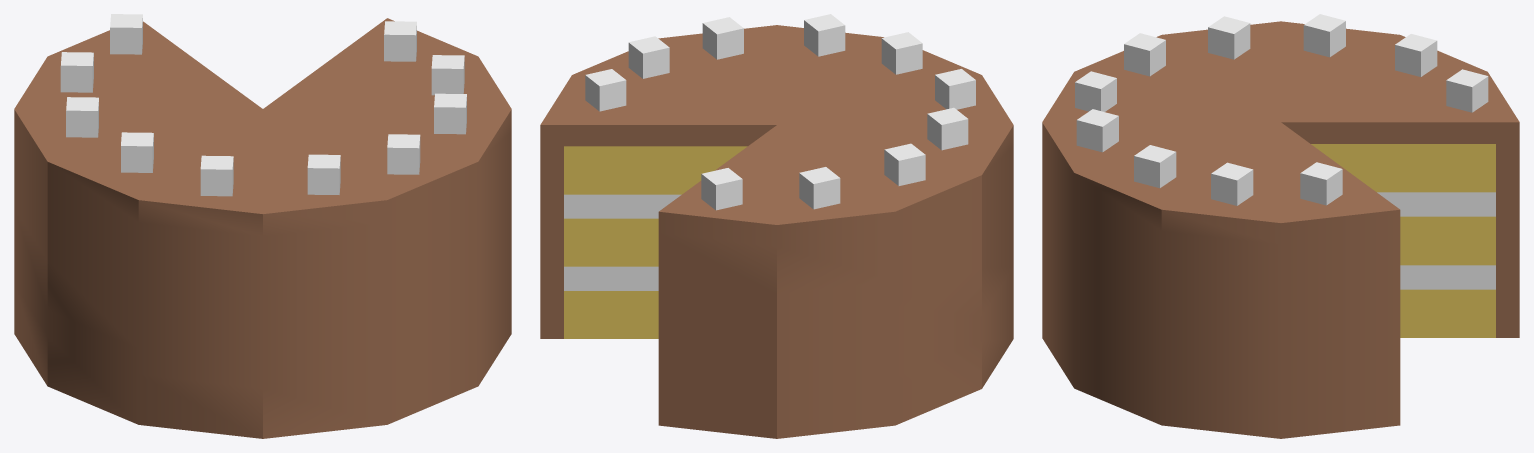
File: CandylandCake_03.fbx
3 renders of one model, left to right at view 1: azimuth 30°, elevation 25°; view 2: azimuth 150°, elevation 25°; view 3: azimuth 270°, elevation 25°, orthographic. The views are drawn at different scales.
Parts seen in each view (by area): view 1: CandylandCake_03; view 2: CandylandCake_03; view 3: CandylandCake_03.
Part boxes in pixels (x1=…): CandylandCake_03: x1=14, y1=14, x2=511, y2=438; CandylandCake_03: x1=540, y1=14, x2=1013, y2=438; CandylandCake_03: x1=1042, y1=14, x2=1519, y2=438.
Bounding box in the file's own units: 1.34 × 0.747 × 1.34.
